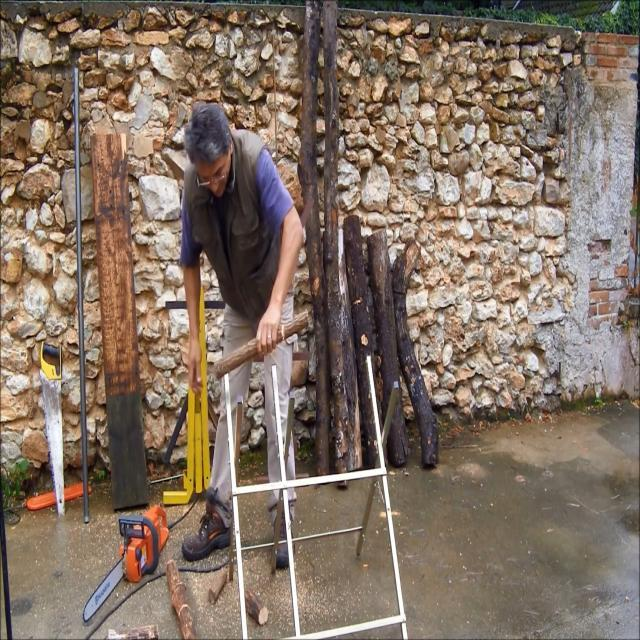Chainsaw: (84, 474, 188, 628)
